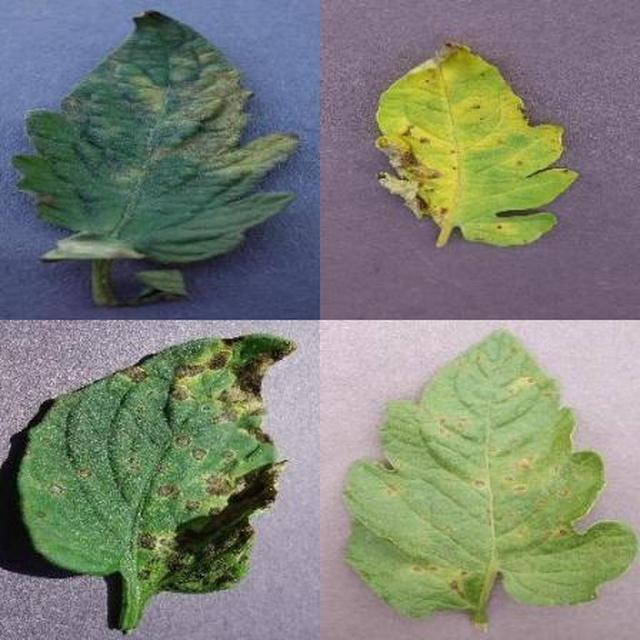Leaf Mold: (220, 193, 640, 640)
